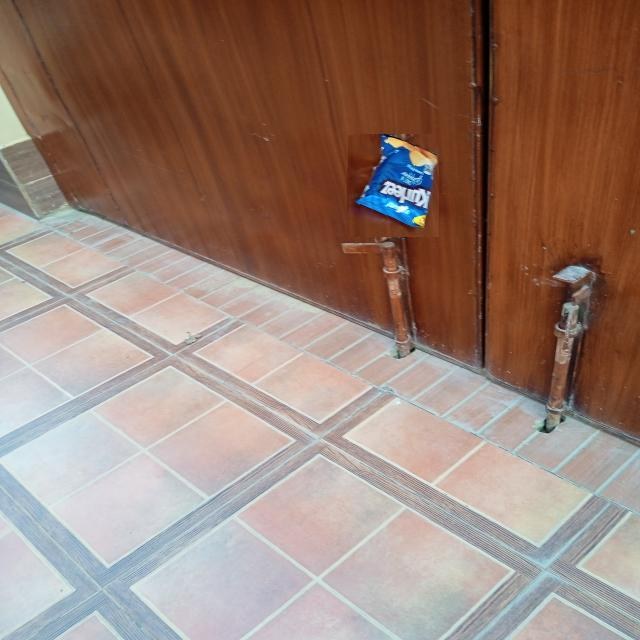Plastic: (347, 134, 439, 237)
